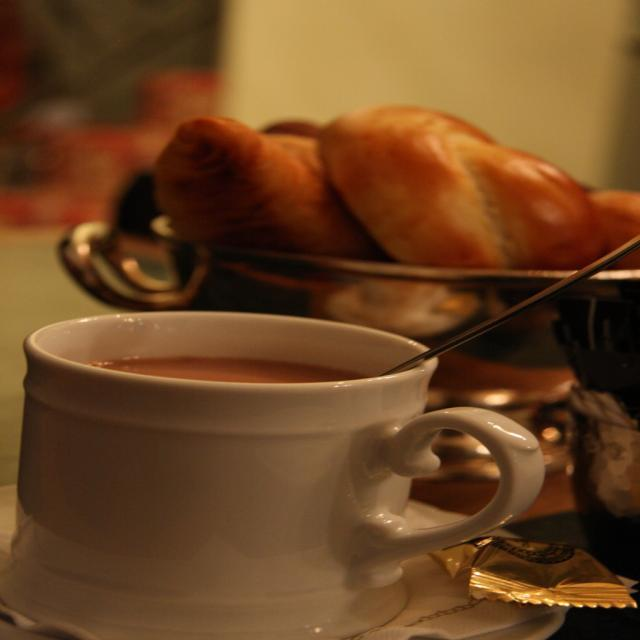Croissant: (326, 106, 639, 271)
